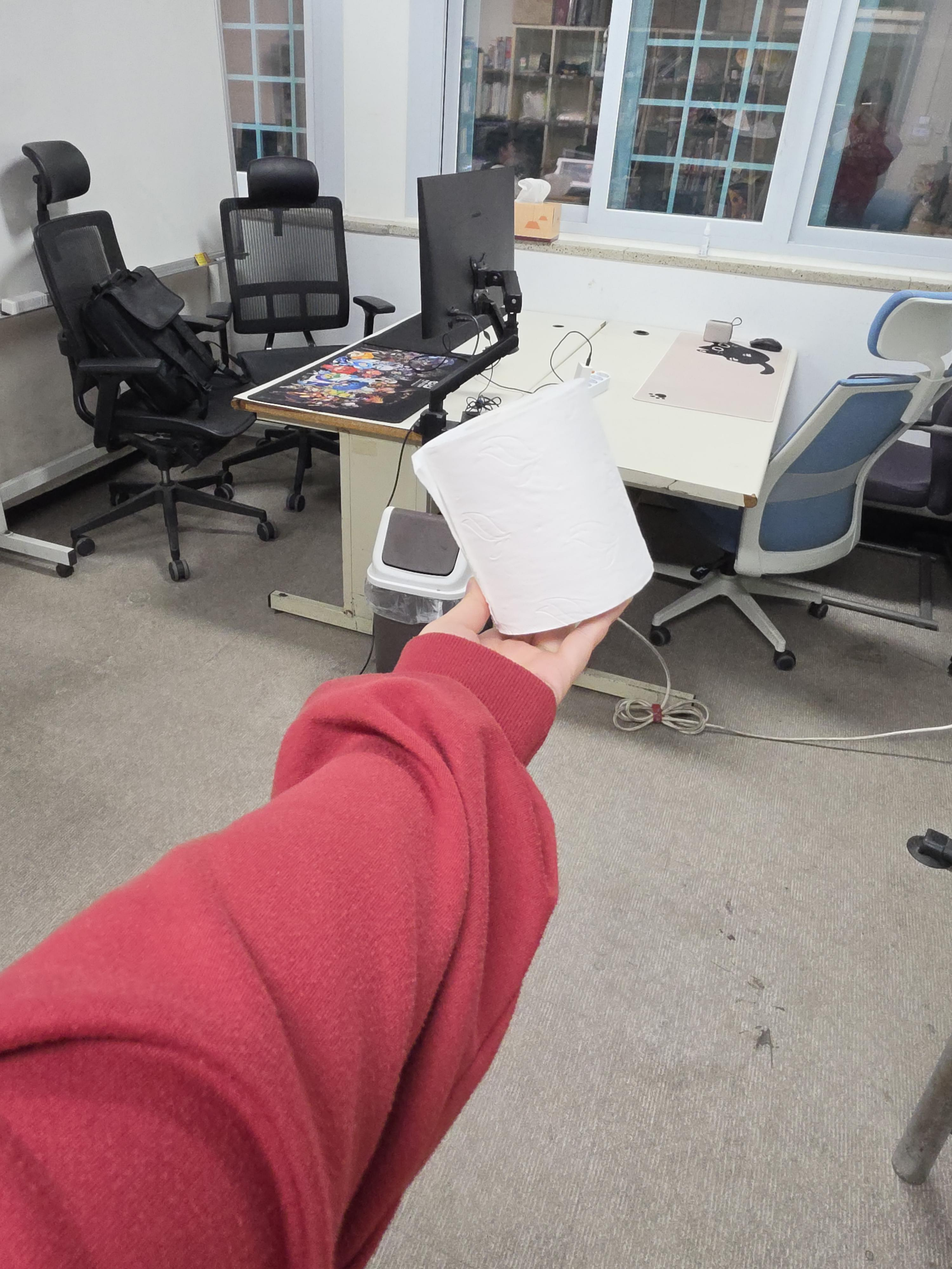tissue: (411, 374, 654, 636), (514, 178, 562, 242)
